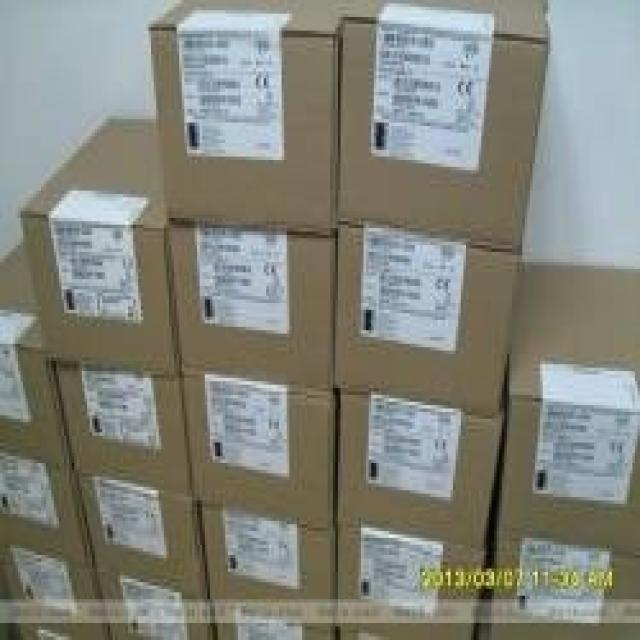Carton: (0, 27, 333, 623), (333, 231, 637, 633), (335, 20, 545, 249)
